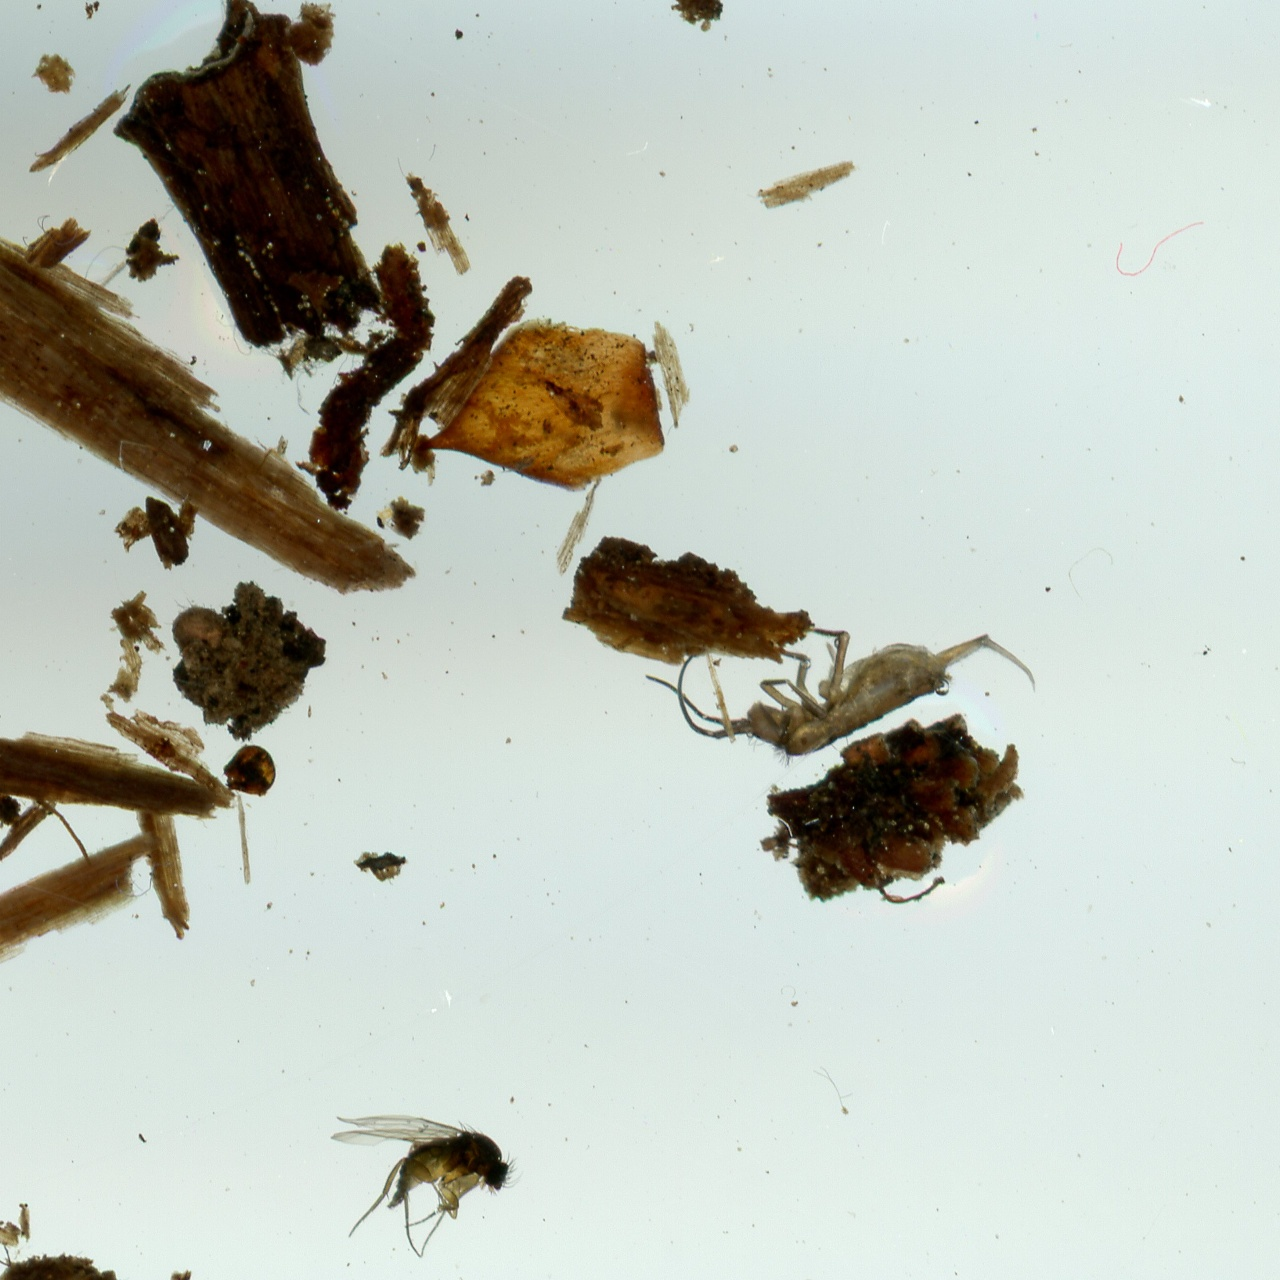arthropod: (639, 506, 1046, 857), (328, 1110, 530, 1262)
